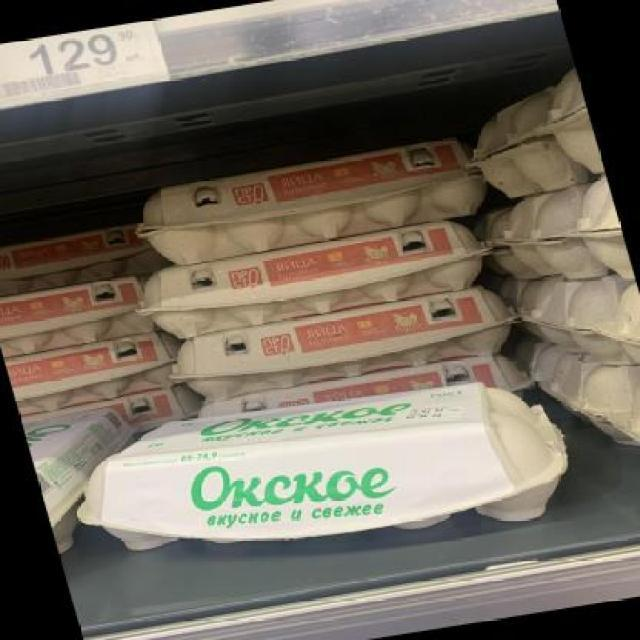Egg: (55, 359, 597, 591), (122, 131, 494, 268), (126, 215, 497, 344), (153, 285, 521, 408), (3, 327, 191, 411), (0, 220, 163, 301), (0, 276, 149, 356)
